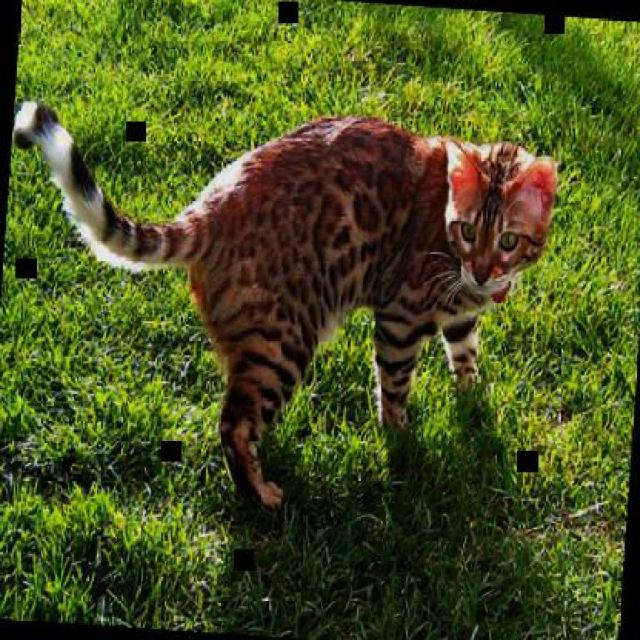cat: (0, 89, 565, 531)
